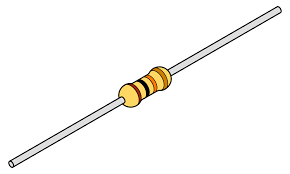resistor: (113, 54, 185, 131)
